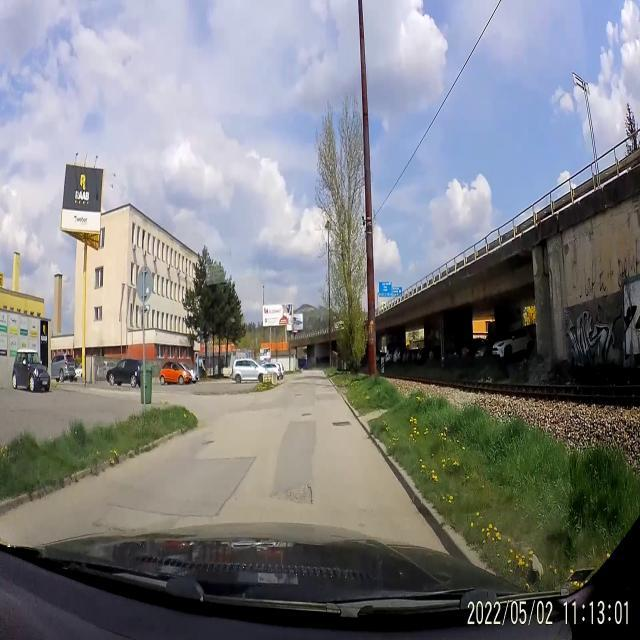Manhole: (328, 417, 357, 433)
Pothole: (272, 473, 320, 514), (198, 433, 216, 453), (298, 409, 314, 421), (294, 390, 304, 400)
